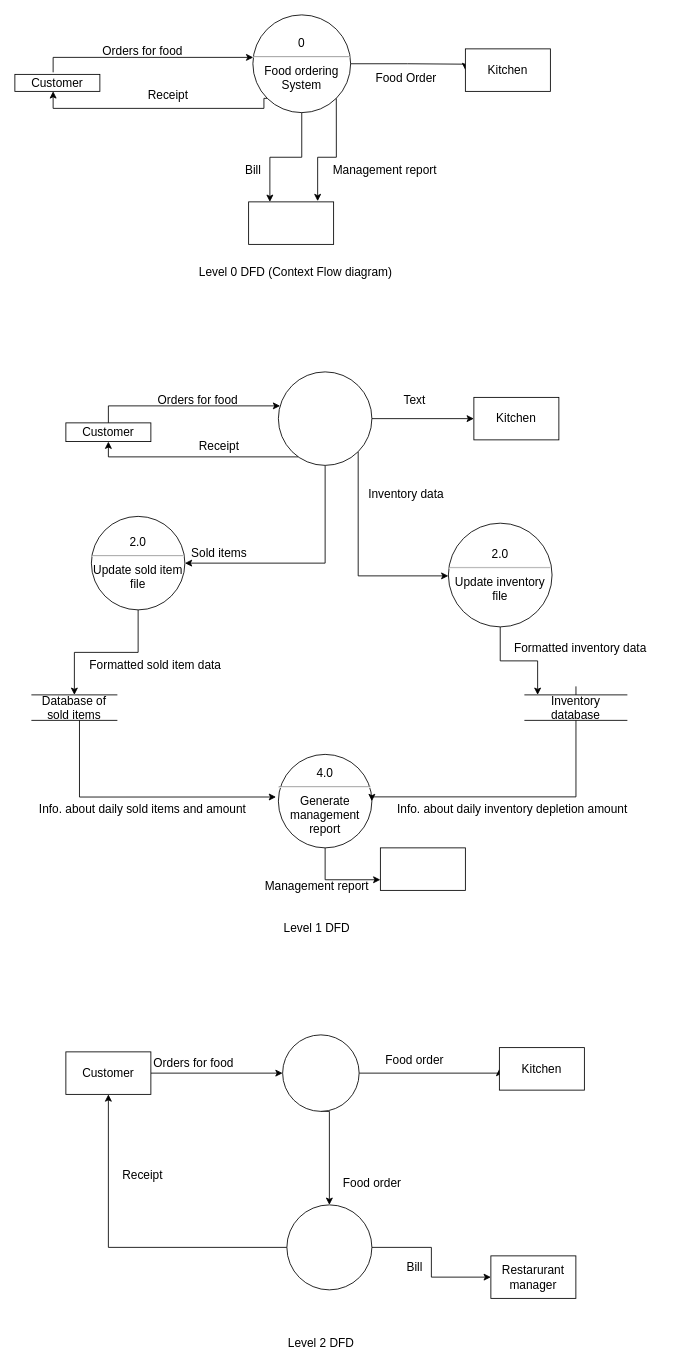
Some shapes in this 676 by 1371 pixel diagram are drawn without their labels. The box of each missing label's shape, as (x1, y1, x2, y2) in pixels:
1.0 Processing of an order: (278, 371, 372, 465)
1.1 Get an order: (282, 1034, 359, 1111)
1.2 Prepare the bill: (286, 1204, 372, 1290)
Management: (248, 201, 334, 244)
Restaurant mangager: (380, 847, 465, 890)
